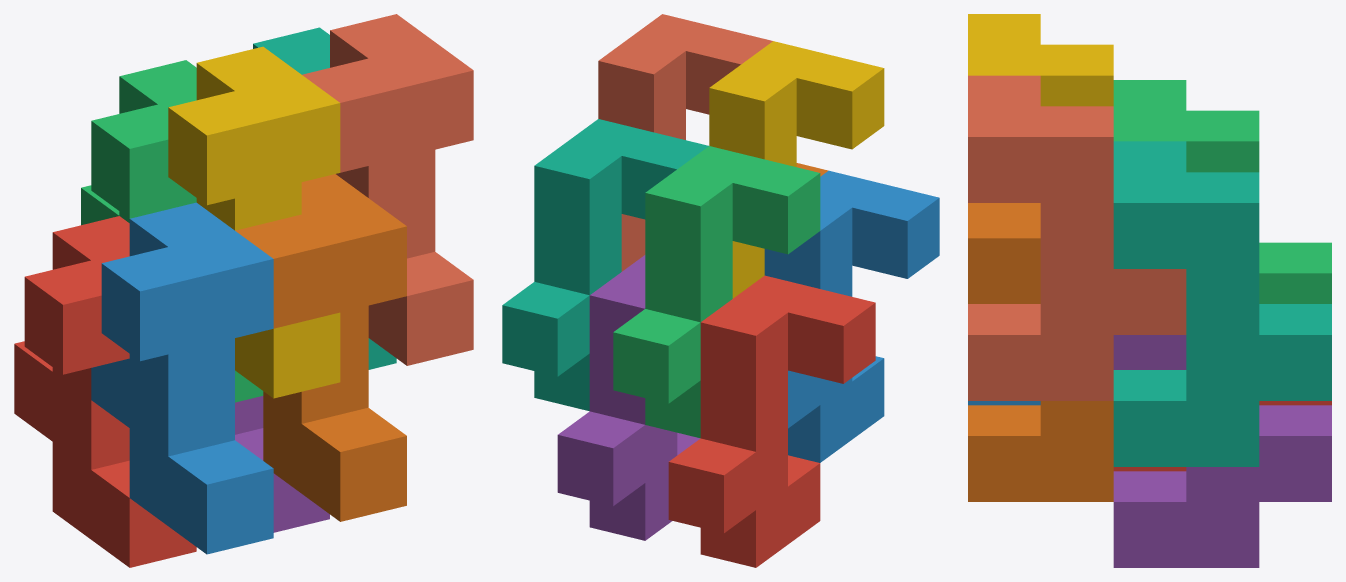
File: tiling.obj
The picture shows the model from 3 angles, left to right: view 1: azimuth 30°, elevation 25°; view 2: azimuth 150°, elevation 25°; view 3: azimuth 270°, elevation 25°; orthographic projection. The views are drawn at different scales.
Parts seen in each view (by area): view 1: copy_1_domain_2, copy_1_domain_6, copy_1_domain_8, copy_1_domain_4, copy_1_domain_1, copy_1_domain_3, copy_1_domain_5, copy_1_domain_7; view 2: copy_1_domain_1, copy_1_domain_3, copy_1_domain_7, copy_1_domain_2, copy_1_domain_5, copy_1_domain_4, copy_1_domain_8; view 3: copy_1_domain_7, copy_1_domain_8, copy_1_domain_5, copy_1_domain_6, copy_1_domain_3, copy_1_domain_4, copy_1_domain_1.
Boxes of the visible parts, x1=… form: copy_1_domain_2: x1=91, y1=202, x2=273, y2=554; copy_1_domain_6: x1=235, y1=174, x2=406, y2=521; copy_1_domain_8: x1=302, y1=14, x2=473, y2=365; copy_1_domain_4: x1=168, y1=46, x2=340, y2=398; copy_1_domain_1: x1=14, y1=216, x2=196, y2=567; copy_1_domain_3: x1=81, y1=60, x2=263, y2=402; copy_1_domain_5: x1=235, y1=396, x2=329, y2=532; copy_1_domain_7: x1=253, y1=27, x2=396, y2=369; copy_1_domain_1: x1=668, y1=275, x2=875, y2=567; copy_1_domain_3: x1=613, y1=146, x2=820, y2=438; copy_1_domain_7: x1=502, y1=119, x2=708, y2=411; copy_1_domain_2: x1=764, y1=170, x2=939, y2=462; copy_1_domain_5: x1=557, y1=255, x2=700, y2=540; copy_1_domain_4: x1=709, y1=41, x2=884, y2=298; copy_1_domain_8: x1=598, y1=14, x2=772, y2=271; copy_1_domain_7: x1=1113, y1=141, x2=1331, y2=466; copy_1_domain_8: x1=968, y1=75, x2=1186, y2=400; copy_1_domain_5: x1=1113, y1=335, x2=1331, y2=567; copy_1_domain_6: x1=968, y1=203, x2=1113, y2=501; copy_1_domain_3: x1=1113, y1=80, x2=1331, y2=303; copy_1_domain_4: x1=968, y1=14, x2=1113, y2=106; copy_1_domain_1: x1=1113, y1=401, x2=1331, y2=471.
Size of the model in its own units: 5 by 7 by 5.
